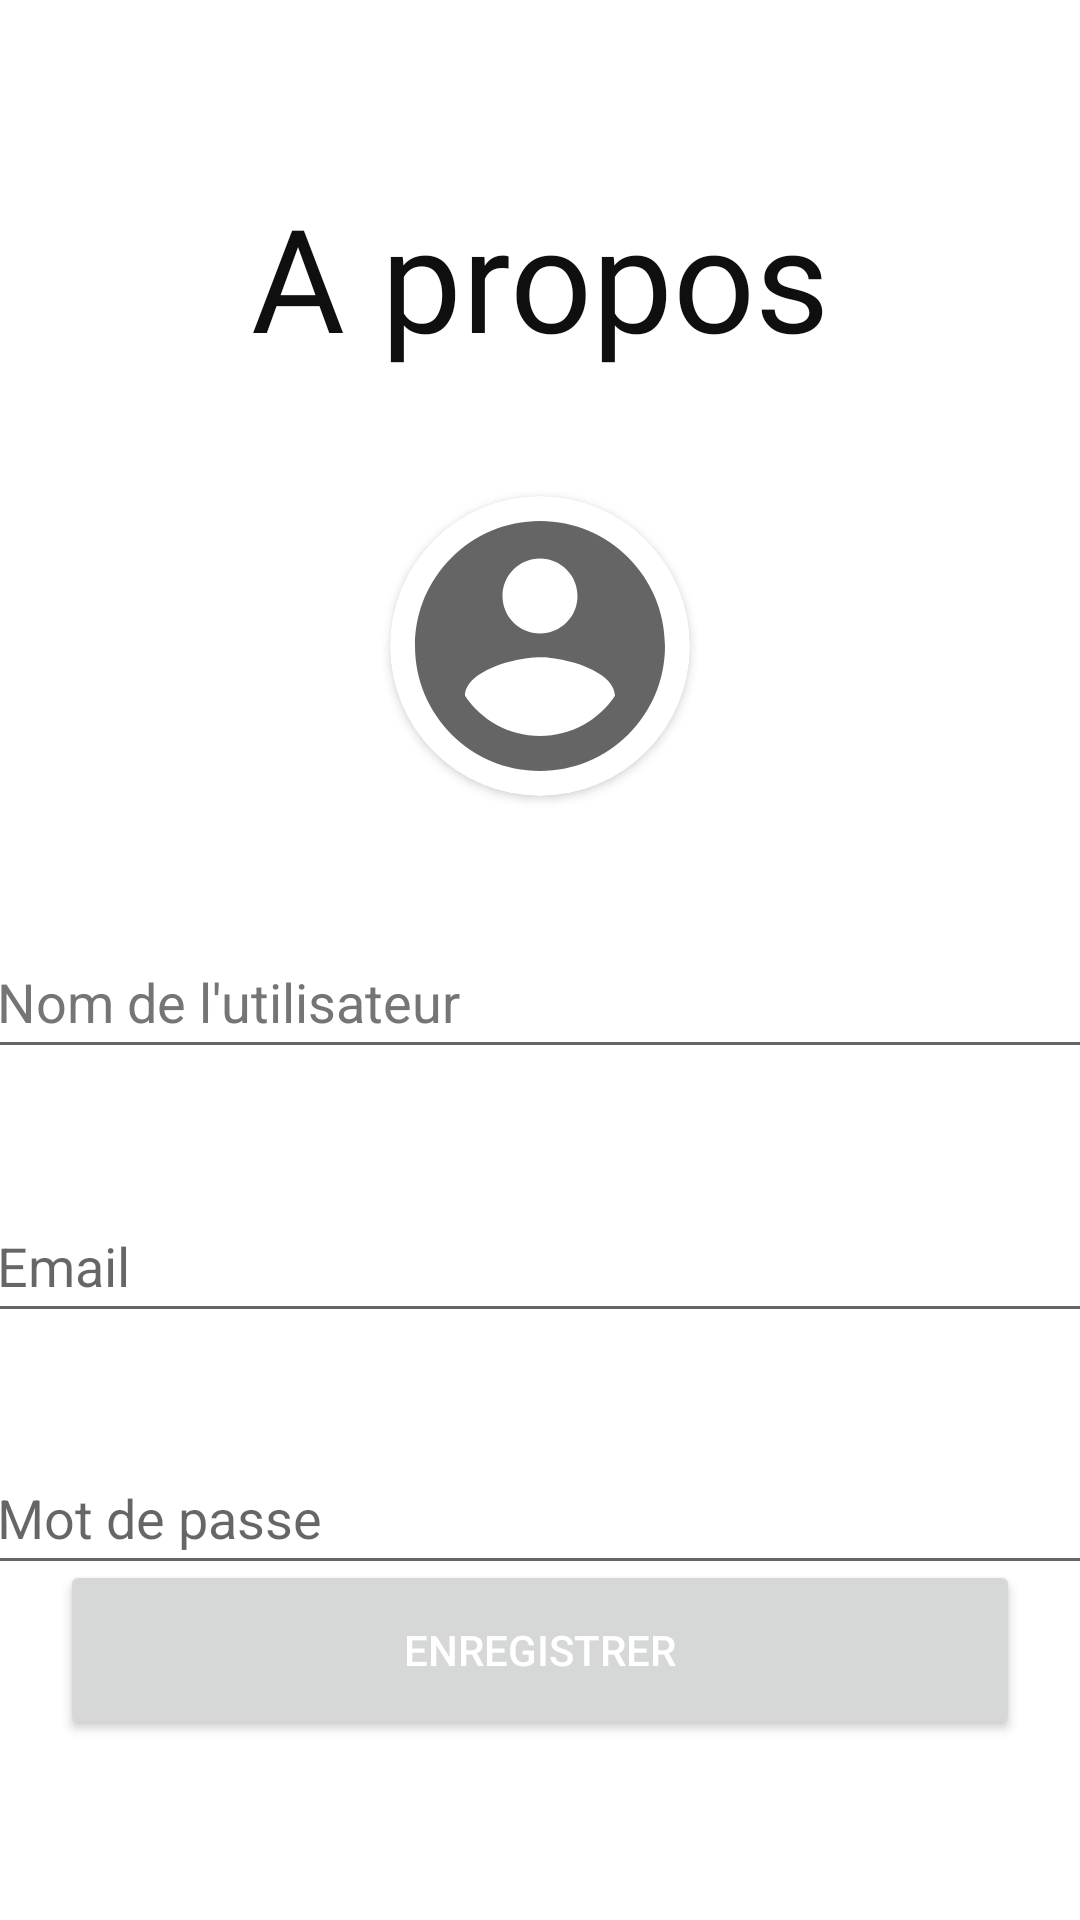

Icons on this 1080*1920 Android screen, each with the point to tap as point (x, y):
lambda profile: point (540, 658)
